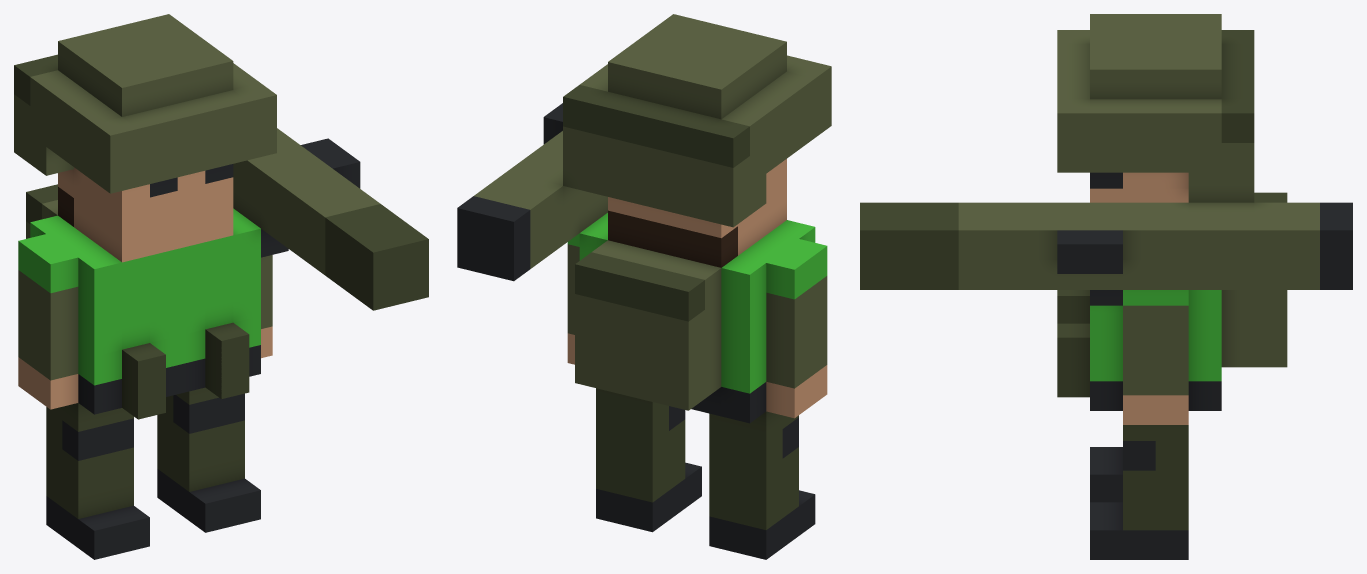
The picture shows the model from 3 angles, left to right: view 1: azimuth 30°, elevation 25°; view 2: azimuth 150°, elevation 25°; view 3: azimuth 270°, elevation 25°; orthographic projection. The views are drawn at different scales.
Parts seen in each view (by area): view 1: cm_at_3_body; view 2: cm_at_3_body; view 3: cm_at_3_body.
Part boxes in pixels (x1,y1,x2,y2): cm_at_3_body: (14, 14, 428, 559); cm_at_3_body: (457, 14, 831, 559); cm_at_3_body: (860, 14, 1352, 559).
Bounding box in the file's own units: 0.625 × 1 × 0.9375.
1 material, 1 textured.
